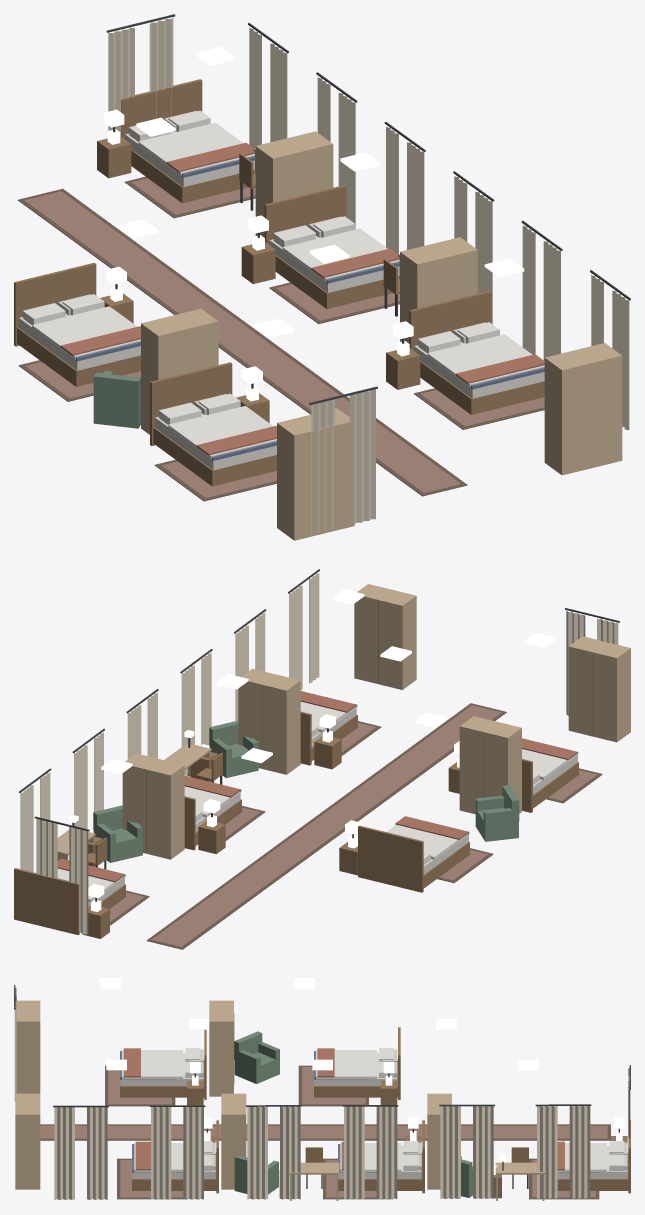
Rendered from fine-s2.glb.
3 renders of one model, top to bottom at view 1: azimuth 30°, elevation 25°; view 2: azimuth 150°, elevation 25°; view 3: azimuth 270°, elevation 25°, orthographic. The views are drawn at different scales.
Parts seen in each view (by area): view 1: soft-s2, dresser.009, dresser.006, bed-frame.006, bed-frame.009, bed-frame.005, bed-frame.008, bed-frame.007, dresser.005, dresser.007, dresser.008, lounge-chair.003 (+3 smaller); view 2: soft-s2, dresser.006, dresser.009, dresser.007, dresser.008, dresser.005, bed-frame.005, bed-frame.007, lounge-chair.003, lounge-chair.004, lounge-chair.005, bed-frame.006 (+7 smaller); view 3: soft-s2, dresser.009, dresser.005, dresser.006, dresser.008, lounge-chair.003, bed-frame.005, bed-frame.006, dresser.007, bed-frame.007, bed-frame.008, bed-frame.009 (+8 smaller).
Part boxes in pixels (x1,y1,x2,y2): soft-s2: (18,14,630,534); dresser.009: (544,343,622,475); dresser.006: (277,408,354,540); bed-frame.006: (150,362,276,486); bed-frame.009: (409,290,544,414); bed-frame.005: (14,262,140,386); bed-frame.008: (264,185,399,308); bed-frame.007: (121,79,255,203); dresser.005: (141,308,218,434); dresser.007: (255,131,333,237); dresser.008: (400,237,477,343); lounge-chair.003: (93,370,140,428); soft-s2: (19,569,619,949); dresser.006: (568,636,630,742); dresser.009: (354,584,416,689); dresser.007: (122,753,184,859); dresser.008: (238,668,300,774); dresser.005: (459,716,521,814); bed-frame.005: (358,825,469,892); bed-frame.007: (14,868,125,935); lounge-chair.003: (475,785,519,841); lounge-chair.004: (93,805,142,862); lounge-chair.005: (209,720,258,778); bed-frame.006: (522,752,578,812); soft-s2: (14,985,630,1199); dresser.009: (15,1093,40,1189); dresser.005: (209,1000,234,1096); dresser.006: (16,1000,40,1093); dresser.008: (221,1093,246,1189); lounge-chair.003: (234,1031,279,1083); bed-frame.005: (314,1027,400,1099); bed-frame.006: (120,1029,206,1099); dresser.007: (427,1093,451,1189); bed-frame.007: (557,1120,630,1193); bed-frame.008: (338,1120,424,1193); bed-frame.009: (132,1120,218,1193).
Bounding box in the file's own units: 7.84 × 2.93 × 14.93.
